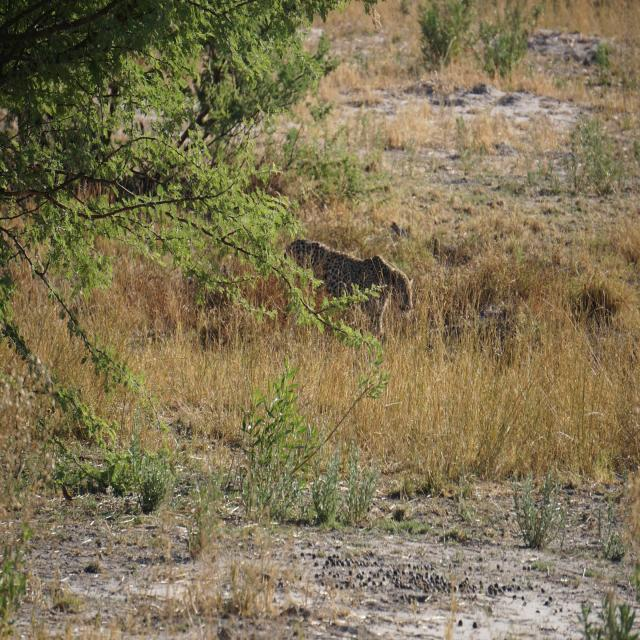Leopard: (288, 233, 411, 317)
